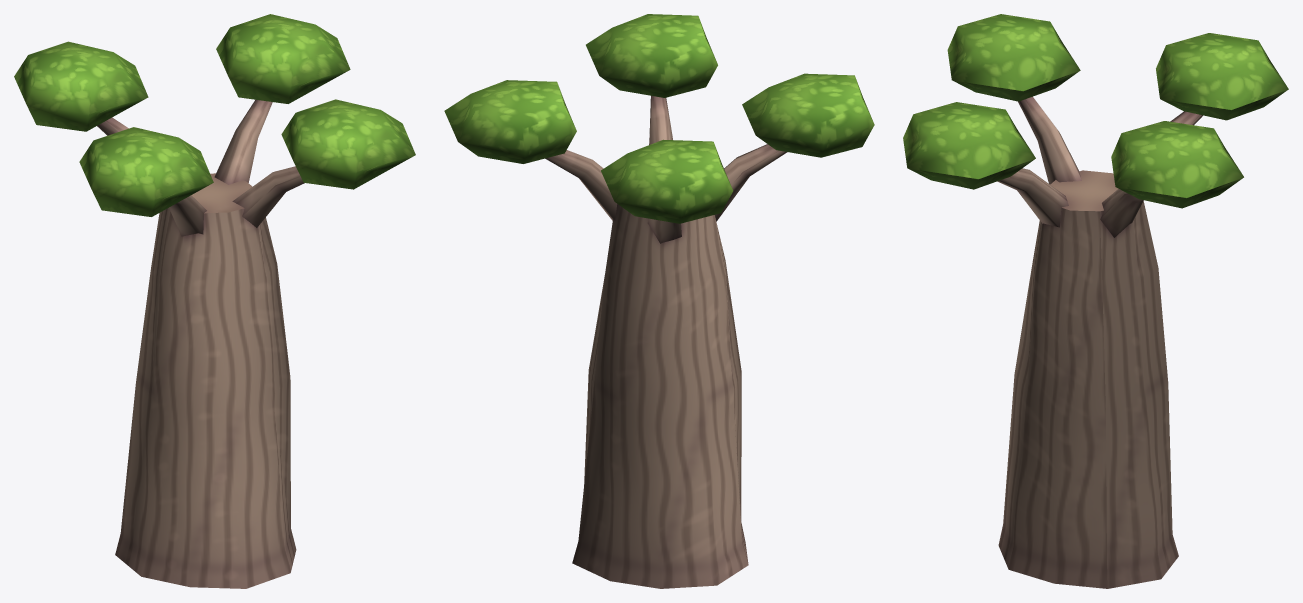
File: baobab_tree.obj
The picture shows the model from 3 angles, left to right: view 1: azimuth 30°, elevation 25°; view 2: azimuth 150°, elevation 25°; view 3: azimuth 270°, elevation 25°; orthographic projection.
Parts seen in each view (by area): view 1: BaobabTree; view 2: BaobabTree; view 3: BaobabTree.
Boxes of the visible parts, box(x1,y1,x2,y2) form: BaobabTree: box(14, 14, 415, 588); BaobabTree: box(444, 14, 874, 588); BaobabTree: box(903, 14, 1288, 588).
Bounding box in the file's own units: 4.96 × 6.52 × 4.87.
1 material, 1 textured.
